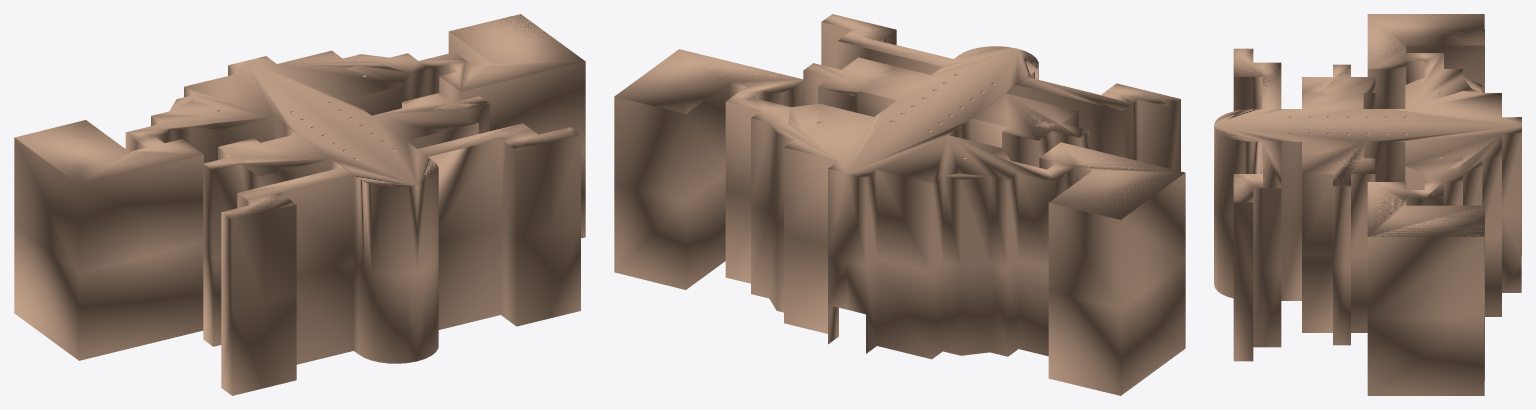
The model's file is NCM.fbx.
3 views of the same model, side by side, from view 1: azimuth 30°, elevation 25°; view 2: azimuth 150°, elevation 25°; view 3: azimuth 270°, elevation 25° (orthographic). The views are drawn at different scales.
Visible parts, largest first — view 1: Cube.001; view 2: Cube.001; view 3: Cube.001.
Part boxes in pixels (box(x1,y1,x2,y2)): Cube.001: box(14, 14, 585, 395); Cube.001: box(614, 14, 1185, 395); Cube.001: box(1214, 14, 1521, 395).
Size of the model in its own units: 2755 by 915 by 1605.
